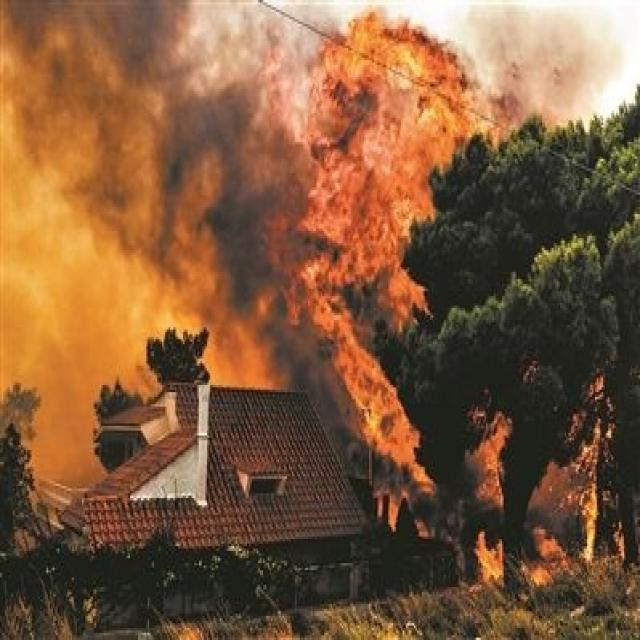fire: (250, 12, 622, 585)
